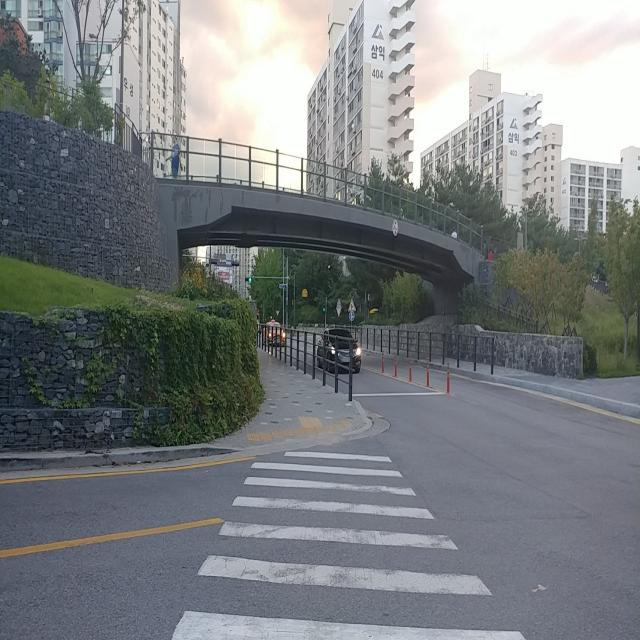횡단보도: (169, 448, 528, 640)
